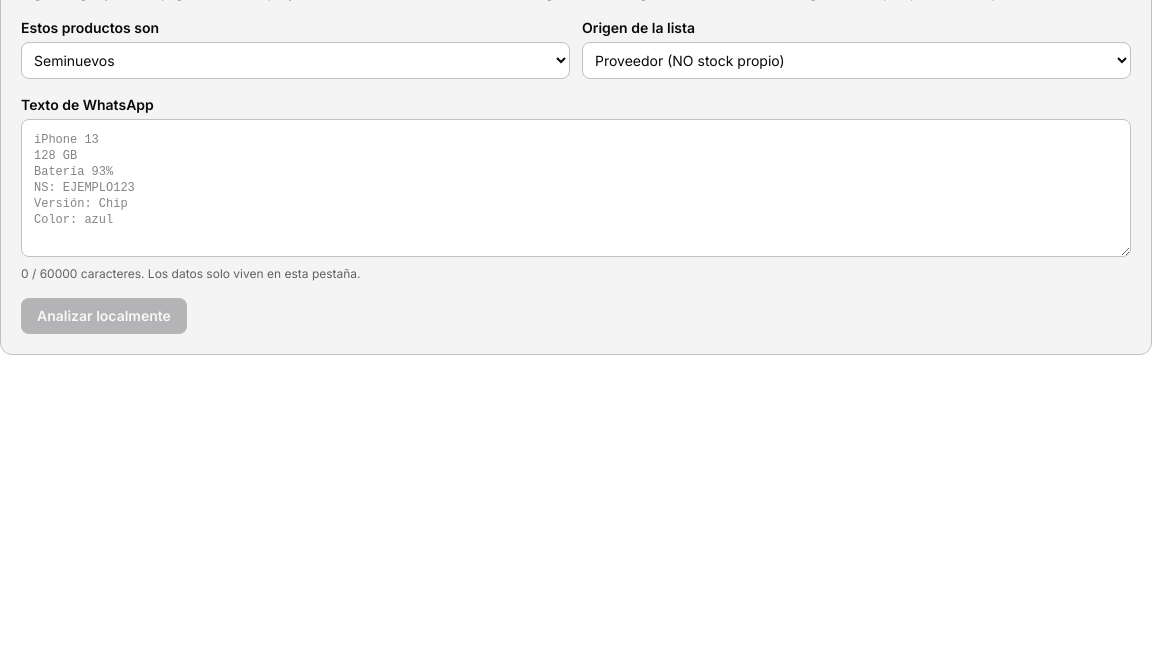
it: si el libro no se puede generar, no se abre el importador
Select "Nuevos" in the dropdown named "Línea declarada": (296, 60) [21,42,570,79]
Replace the text in the text box named "Texto para reconocer" with "IPH 15 128 2300 negro": (576, 188) [21,119,1131,257]
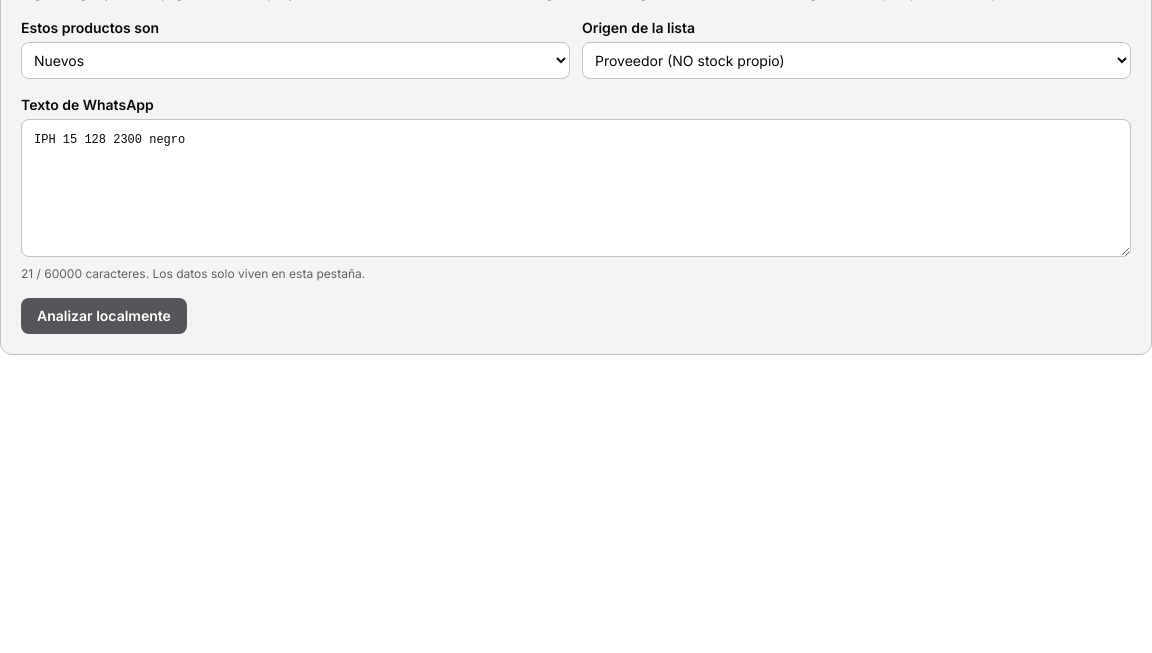
Click the button "Analizar localmente": click(104, 316) [21,298,187,334]
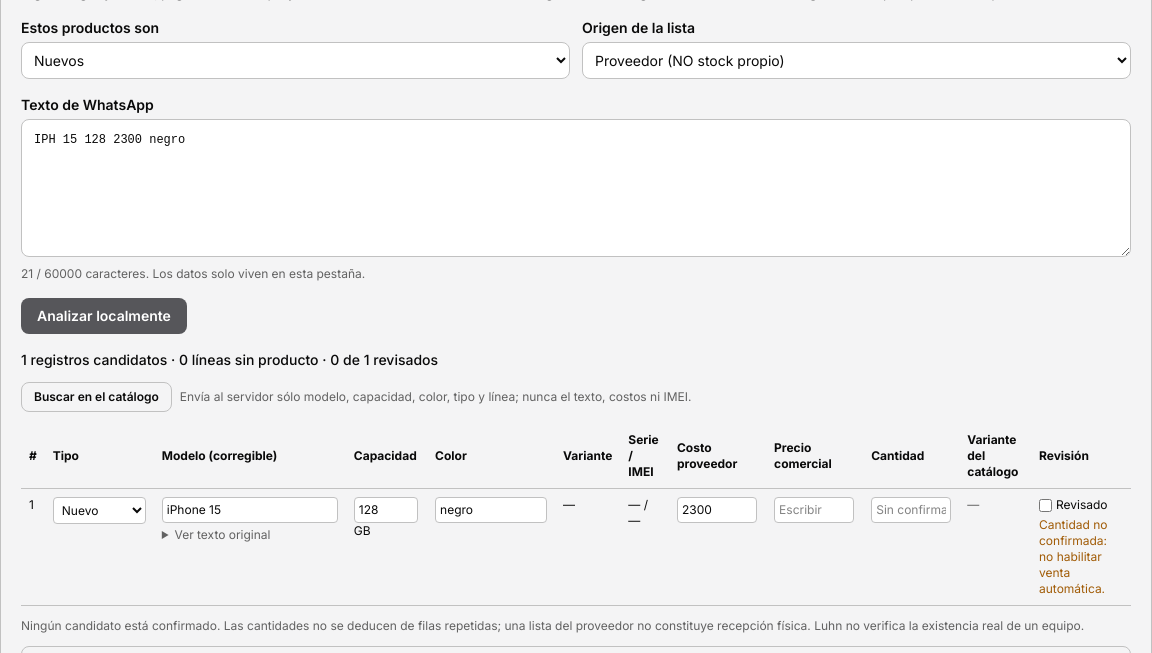
Click the button "Buscar en el catálogo": click(96, 397) [21,382,172,412]
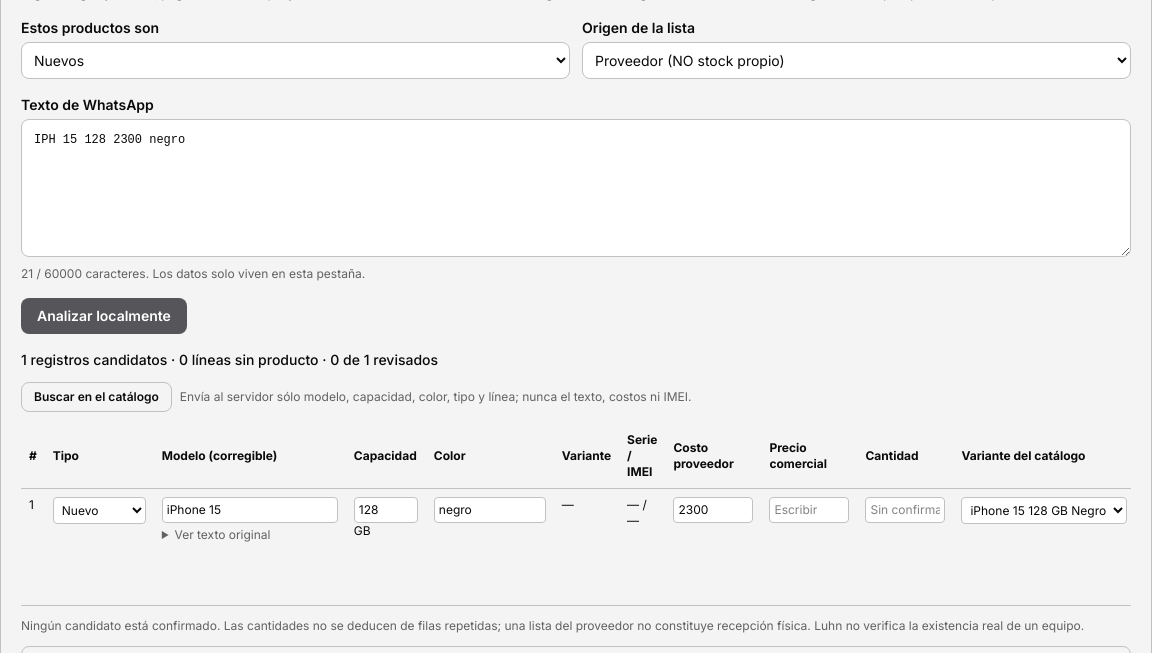
In the field named "Precio comercial del registro 1": (809, 510) [769,497,849,523], type "2999"
(page scrolled)
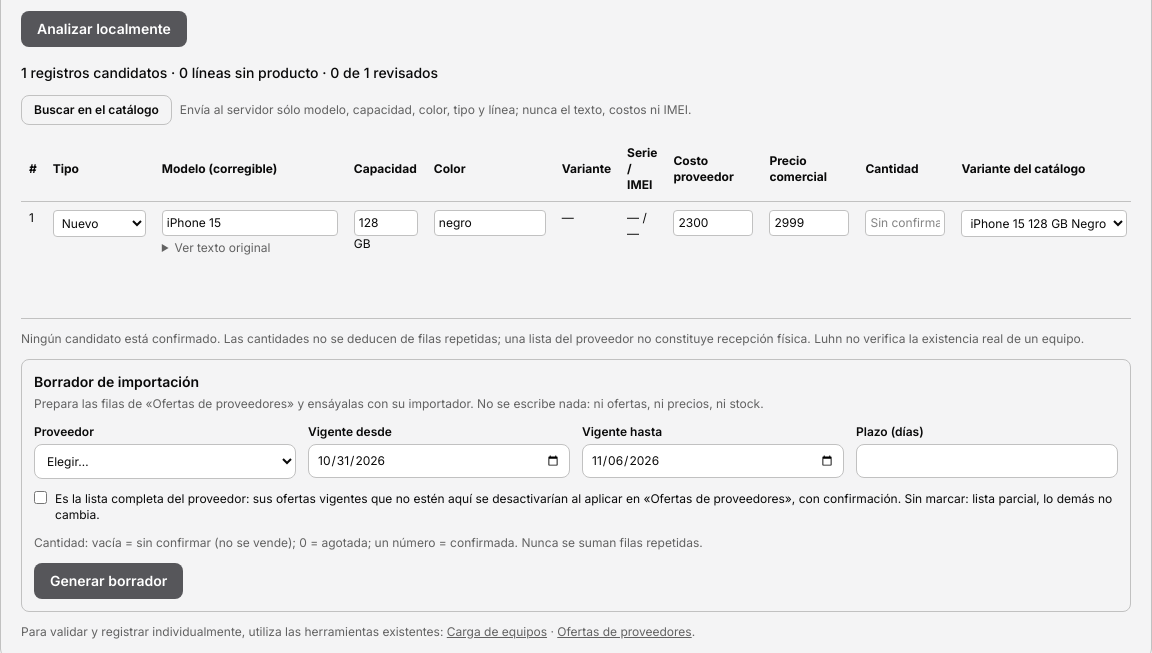
Select "Mayorista" in the dropdown named "Proveedor del borrador": (165, 462) [34,444,296,479]
Click the button "Generar borrador": click(109, 581) [34,563,183,599]
(page scrolled)
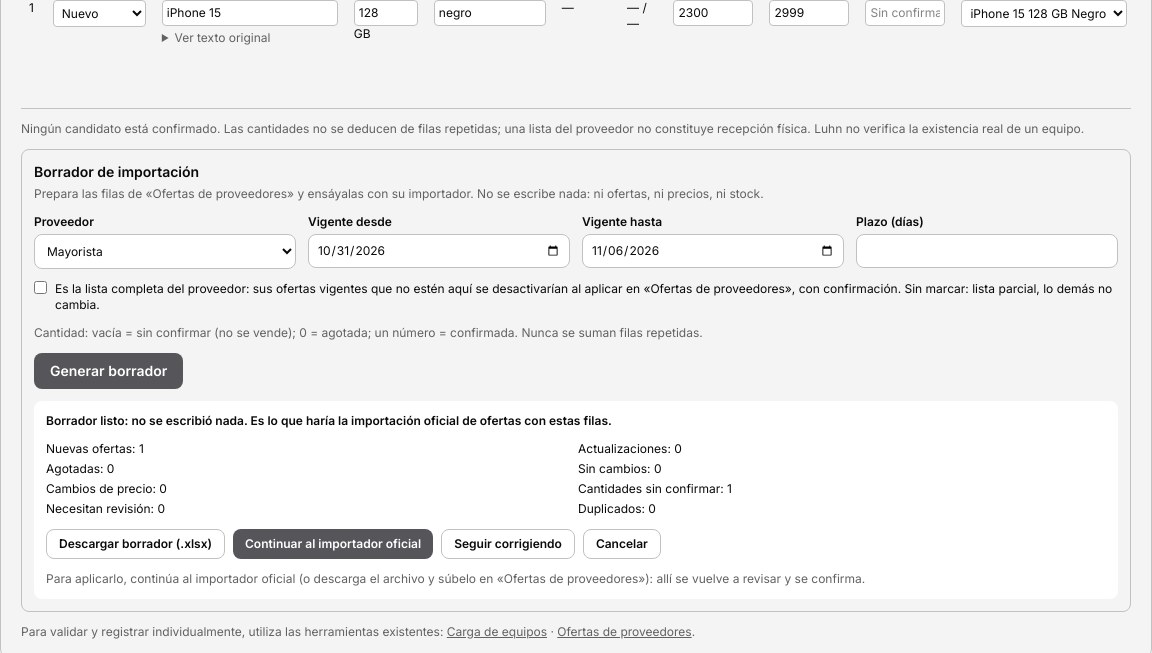
Click the button "Continuar al importador oficial": click(333, 544) [233,529,433,559]
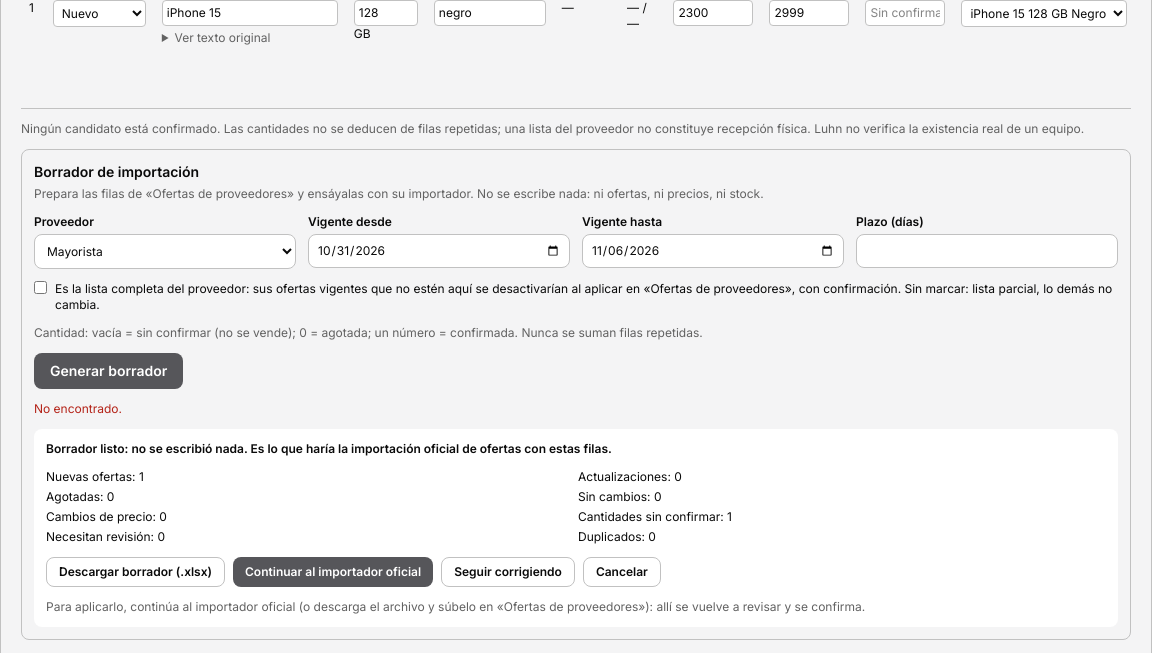
Expected: the text "No encontrado." is shown, [34,401,122,416]
